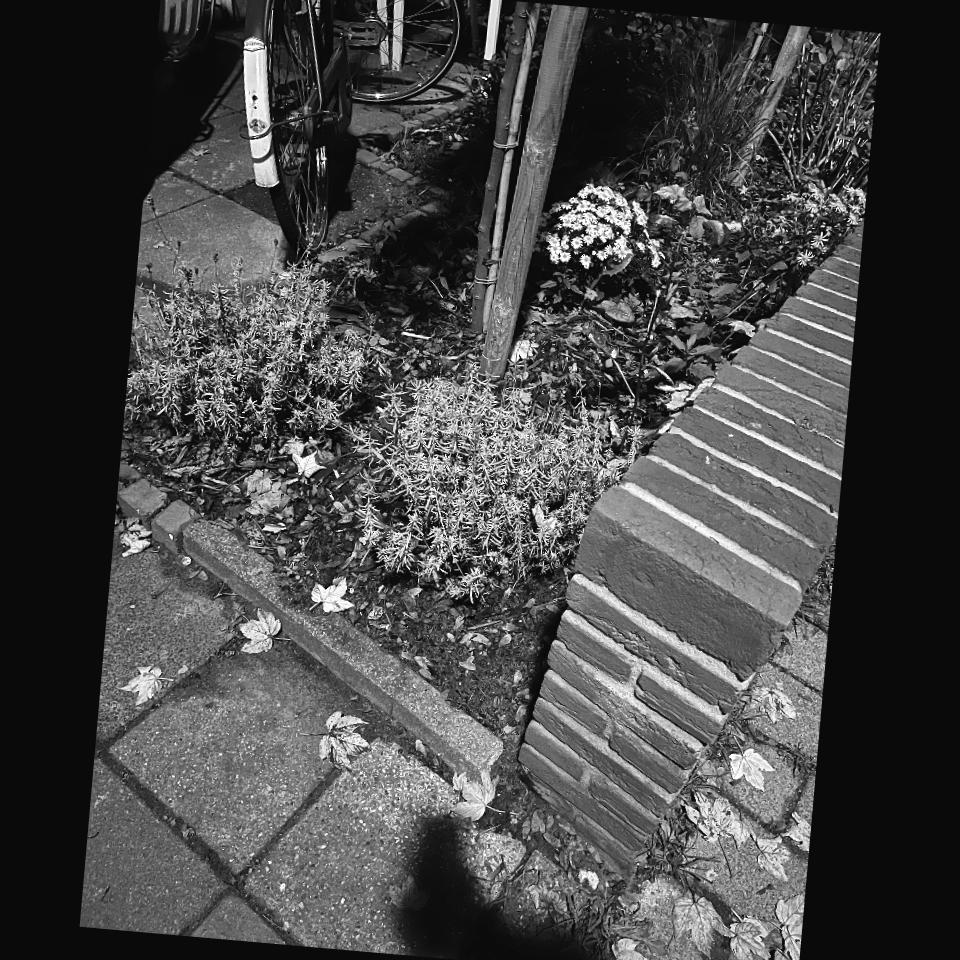weed: (635, 661, 774, 899), (569, 894, 654, 948), (491, 848, 528, 932)
